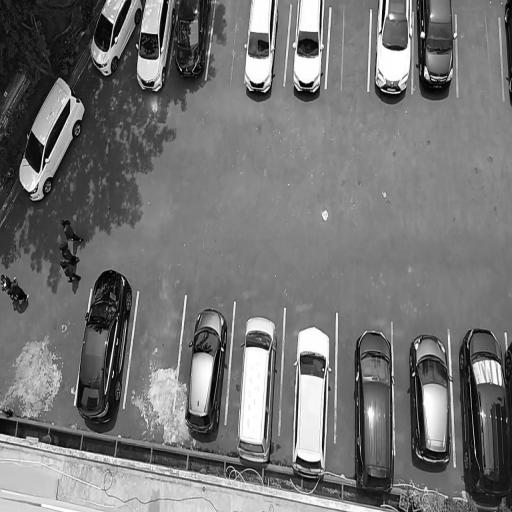Car: (74, 262, 135, 435), (456, 317, 510, 508), (18, 67, 89, 207), (350, 321, 398, 499), (406, 321, 457, 478), (288, 317, 331, 487), (185, 297, 230, 448), (236, 312, 278, 469), (88, 0, 137, 95), (374, 0, 415, 111), (241, 0, 282, 104), (416, 0, 456, 102), (132, 0, 172, 100), (290, 0, 326, 109), (172, 0, 207, 92), (503, 0, 512, 105)
Space Available: (138, 275, 173, 427), (459, 0, 496, 111), (331, 2, 366, 93), (216, 0, 244, 88)
